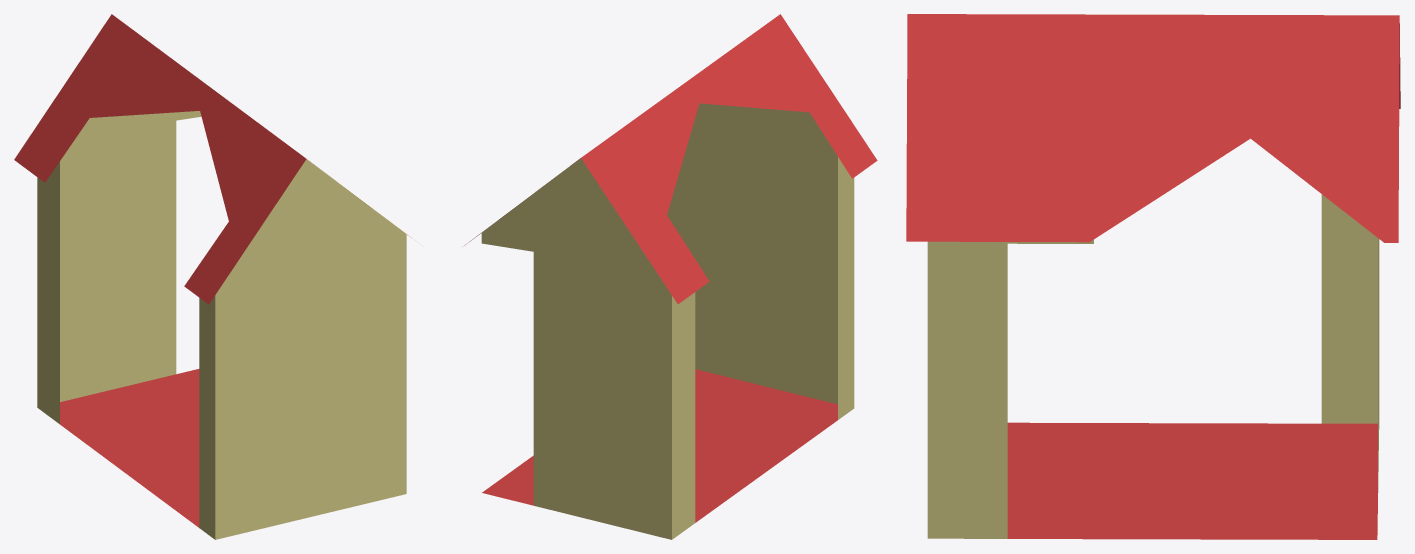
The picture shows the model from 3 angles, left to right: view 1: azimuth 30°, elevation 25°; view 2: azimuth 150°, elevation 25°; view 3: azimuth 270°, elevation 25°; orthographic projection. The views are drawn at different scales.
Parts seen in each view (by area): view 1: group_5, group_3, group_6, group_4; view 2: group_5, group_3, group_6, group_4; view 3: group_3, group_6, group_5, group_4.
Part boxes in pixels (x1,y1,x2,y2): group_5: (37,111,406,539); group_3: (14,14,408,304); group_6: (60,369,199,527); group_4: (15,30,213,303); group_5: (481,103,854,539); group_3: (464,14,877,303); group_6: (482,369,837,522); group_4: (519,147,874,302); group_3: (906,14,1400,242); group_6: (1007,422,1378,539); group_5: (927,194,1379,538); group_4: (906,15,1400,241).
Bounding box in the file's own units: 11.31 × 17.43 × 17.85.
